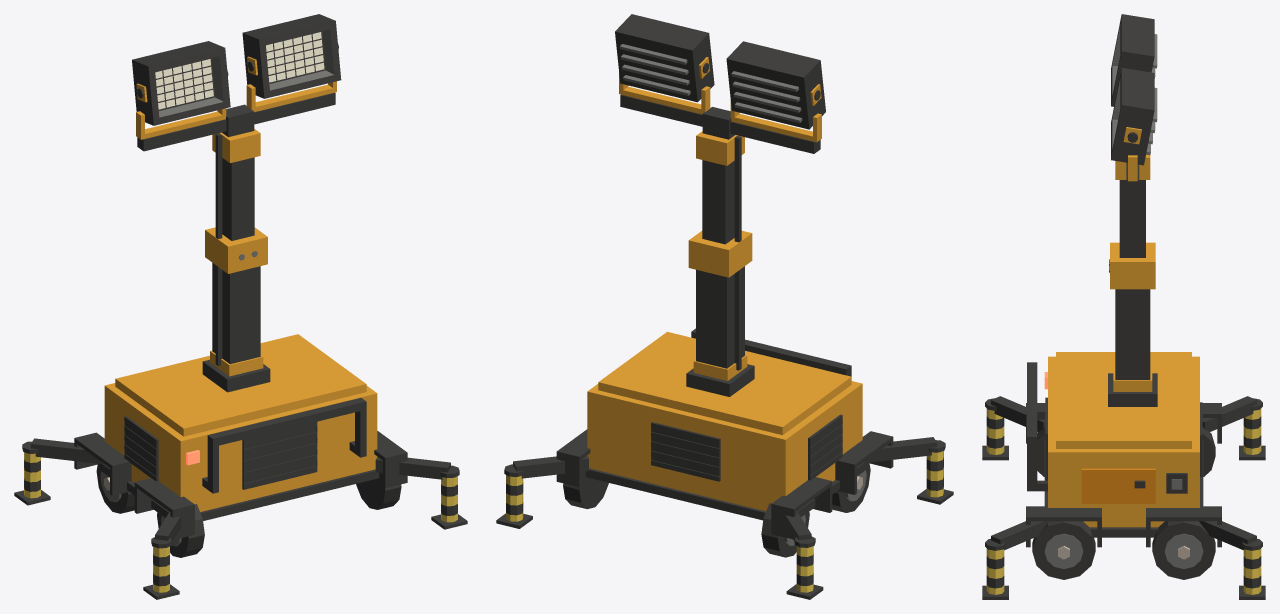
File: construction floodlight.fbx
3 views of the same model, side by side, from view 1: azimuth 30°, elevation 25°; view 2: azimuth 150°, elevation 25°; view 3: azimuth 270°, elevation 25° (orthographic).
Parts seen in each view (by area): view 1: Construction_Floodlight; view 2: Construction_Floodlight; view 3: Construction_Floodlight.
Boxes of the visible parts, x1,y1,x2,y2 form: Construction_Floodlight: [14, 14, 467, 599]; Construction_Floodlight: [496, 14, 953, 599]; Construction_Floodlight: [982, 14, 1265, 599].
Bounding box in the file's own units: 202 × 291 × 160.
